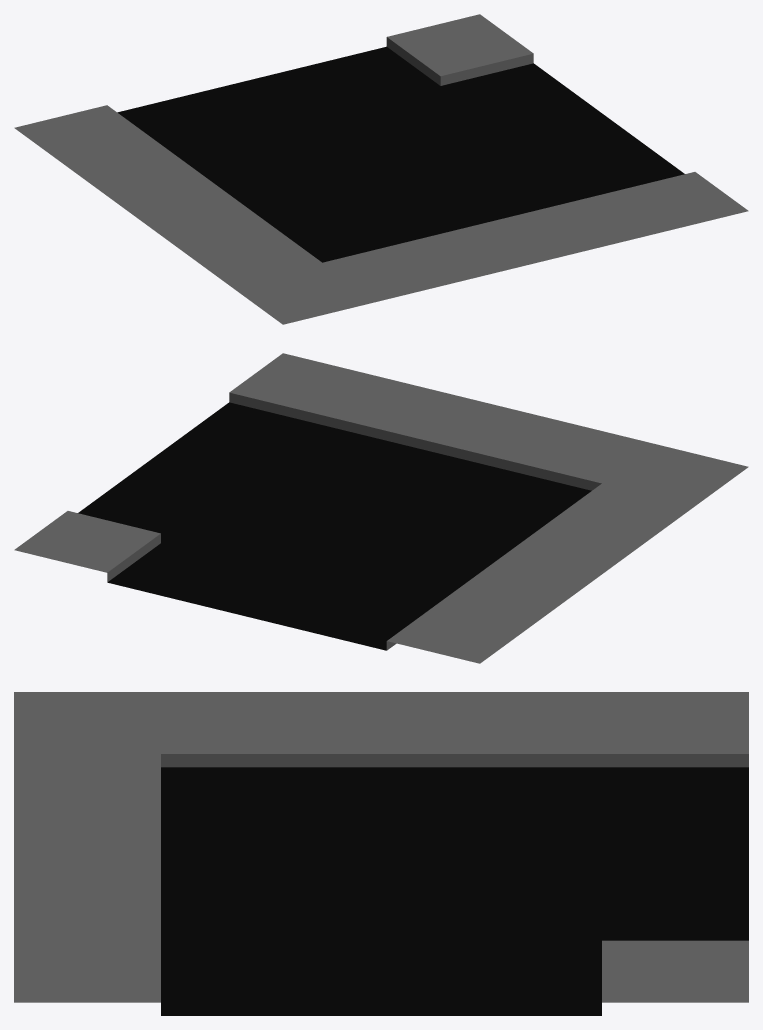
The model's file is Road_Corner.fbx.
3 views of the same model, one above another, from view 1: azimuth 30°, elevation 25°; view 2: azimuth 150°, elevation 25°; view 3: azimuth 270°, elevation 25° (orthographic). The views are drawn at different scales.
Visible parts, largest first — view 1: Road_Corner; view 2: Road_Corner; view 3: Road_Corner.
Part boxes in pixels (x1,y1,x2,y2): Road_Corner: [14, 14, 748, 324]; Road_Corner: [14, 353, 748, 663]; Road_Corner: [14, 692, 748, 1015].
Bounding box in the file's own units: 10 × 0.2 × 10.
